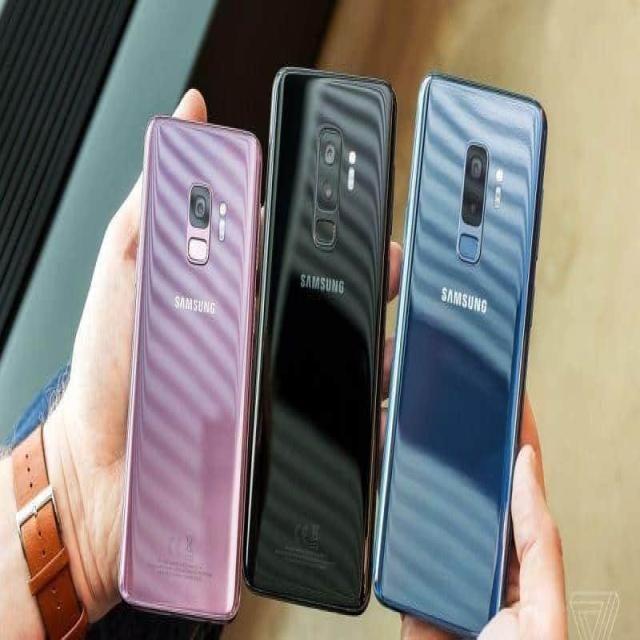mobile phone: (371, 69, 548, 637), (242, 64, 397, 615), (117, 112, 263, 623)
